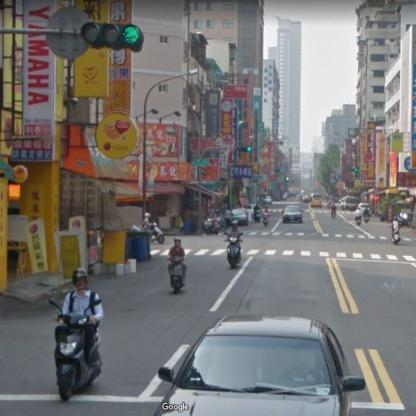Green Light: (80, 20, 147, 49)
